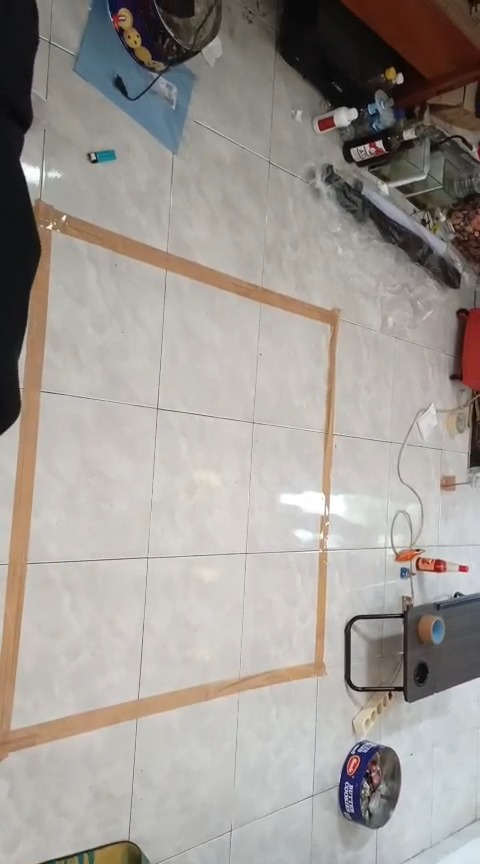floor marking: (0, 200, 338, 759)
